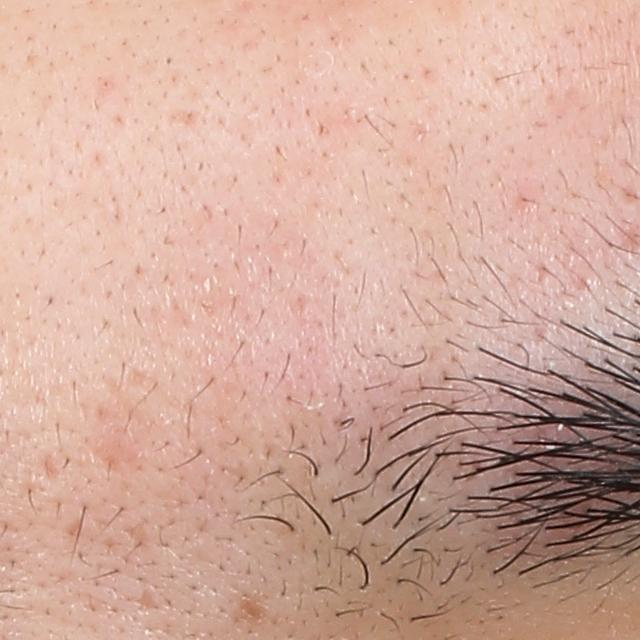atrophic_scar: (42, 448, 58, 479), (135, 589, 157, 610)
